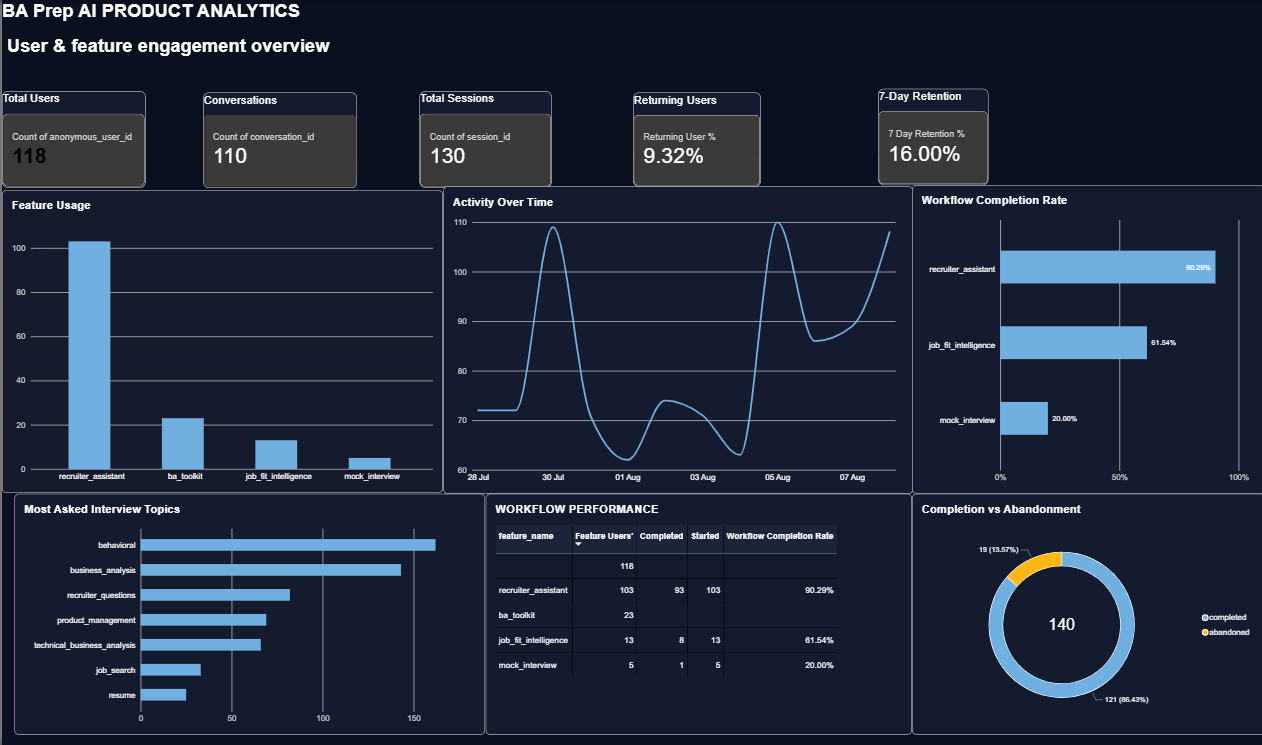

The page's visual inventory and layout, read from the dashboard file:
{"tool":"powerbi","page":{"name":"Page 1","canvas":[2200,1300],"ordinal":0},"visuals":[{"type":"cardVisual","title":"Total Users","fields":{"Data":["Count(product_events.anonymous_user_id)"]},"box":[0,159.2,250,168],"z":0},{"type":"cardVisual","title":"Conversations","fields":{"Data":["Count(product_events.conversation_id)"]},"box":[350,162,268,166],"z":1000},{"type":"textbox","box":[61,429.2,329,156],"z":2000},{"type":"cardVisual","title":"Total Sessions","fields":{"Data":["Count(product_events.session_id)"]},"box":[728,160,230,168],"z":3000},{"type":"clusteredColumnChart","title":"Feature Usage","fields":{"Category":["product_events.feature_name"],"Y":["Count(product_events.anonymous_user_id)"]},"box":[0,332,768,528],"z":4000},{"type":"lineChart","title":"Activity Over Time","fields":{"Category":["product_events.event_date"],"Y":["CountNonNull(product_events.event_id)"]},"box":[768,324,818,536],"z":5000},{"type":"donutChart","title":"Completion vs Abandonment","fields":{"Category":["product_events.completion_status"],"Y":["CountNonNull(product_events.event_id)"]},"box":[1585,860,615,420],"z":6000},{"type":"barChart","title":"Most Asked Interview Topics","fields":{"Category":["product_events.topic_category"],"Y":["CountNonNull(product_events.event_id)"]},"box":[22.5,860,820,420],"z":7000},{"type":"cardVisual","title":"Returning Users ","fields":{"Data":["product_events.Returning User %"]},"box":[1100,162,222,164],"z":9000},{"type":"clusteredBarChart","title":"Workflow Completion Rate","fields":{"Category":["product_events.feature_name"],"Y":["product_events.Workflow Completion Rate"]},"box":[1585,322.5,615,537.5],"z":10000},{"type":"cardVisual","title":"7-Day Retention","fields":{"Data":["product_events.7 Day Retention %"]},"box":[1526,154,192,168],"z":13000},{"type":"textbox","box":[0,0,796,42],"z":14000},{"type":"textbox","box":[0,62,618,64],"z":15000},{"type":"tableEx","title":" WORKFLOW PERFORMANCE ","fields":{"Values":["product_events.feature_name","product_events.anonymous_user_id","product_events.Completed","product_events.Started","product_events.Workflow Completion Rate"]},"box":[842.5,860,742.5,420],"z":16001}]}

Visuals, with their boxes in screenshot pixels (x1, y1, x2, y2), scaled from the page's 2200x1300 canvas onto the 1262x745 screenshot:
"Total Users" cardVisual: [x1=0, y1=91, x2=143, y2=188]
"Conversations" cardVisual: [x1=201, y1=93, x2=355, y2=188]
textbox: [x1=35, y1=246, x2=224, y2=335]
"Total Sessions" cardVisual: [x1=418, y1=92, x2=550, y2=188]
"Feature Usage" clusteredColumnChart: [x1=0, y1=190, x2=441, y2=493]
"Activity Over Time" lineChart: [x1=441, y1=186, x2=910, y2=493]
"Completion vs Abandonment" donutChart: [x1=909, y1=493, x2=1261, y2=734]
"Most Asked Interview Topics" barChart: [x1=13, y1=493, x2=483, y2=734]
"Returning Users " cardVisual: [x1=631, y1=93, x2=758, y2=187]
"Workflow Completion Rate" clusteredBarChart: [x1=909, y1=185, x2=1261, y2=493]
"7-Day Retention" cardVisual: [x1=875, y1=88, x2=986, y2=185]
textbox: [x1=0, y1=0, x2=457, y2=24]
textbox: [x1=0, y1=36, x2=355, y2=72]
" WORKFLOW PERFORMANCE " tableEx: [x1=483, y1=493, x2=909, y2=734]
